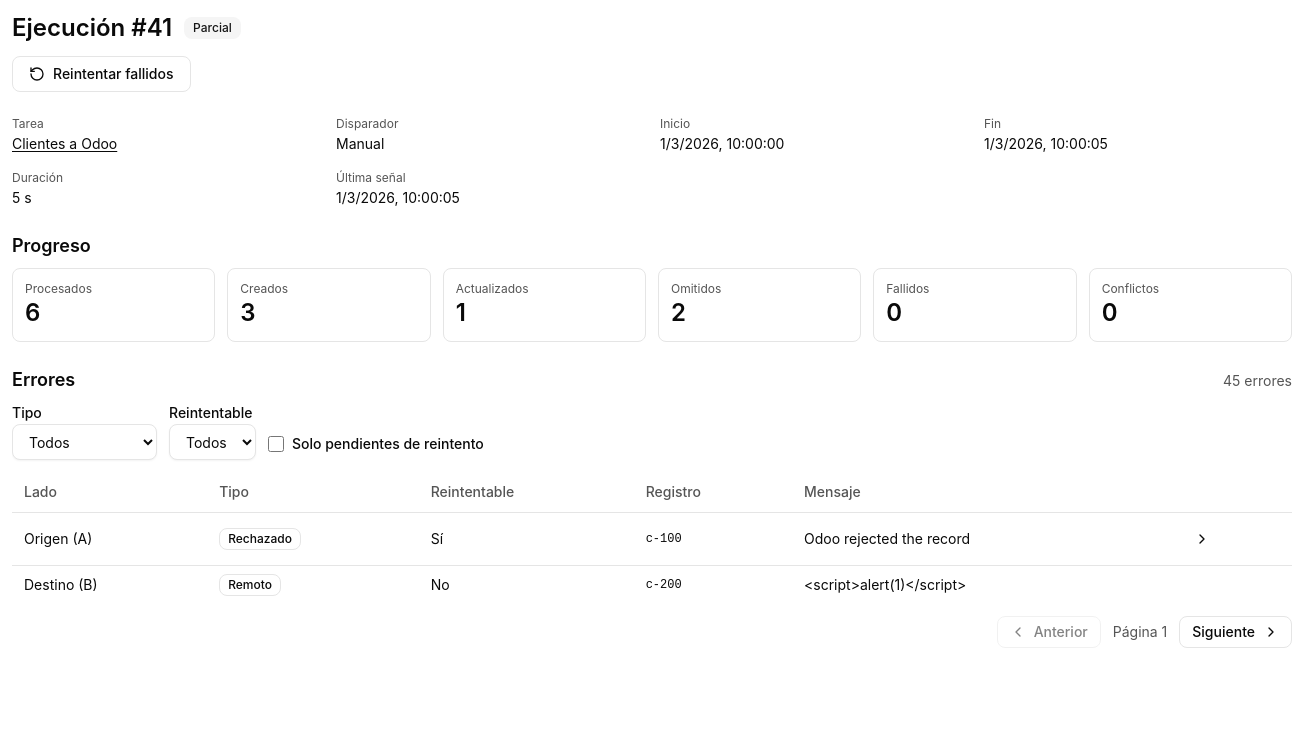
RunDetailPage errors › pages through the errors using the server total
Check: the text "c-100" is shown, box 634,512 -> 792,565
Check: the text "45 errores" is shown, box 1223,371 -> 1292,391
Click the button "Siguiente".
click(1236, 632)  # box 1179,616 -> 1292,648
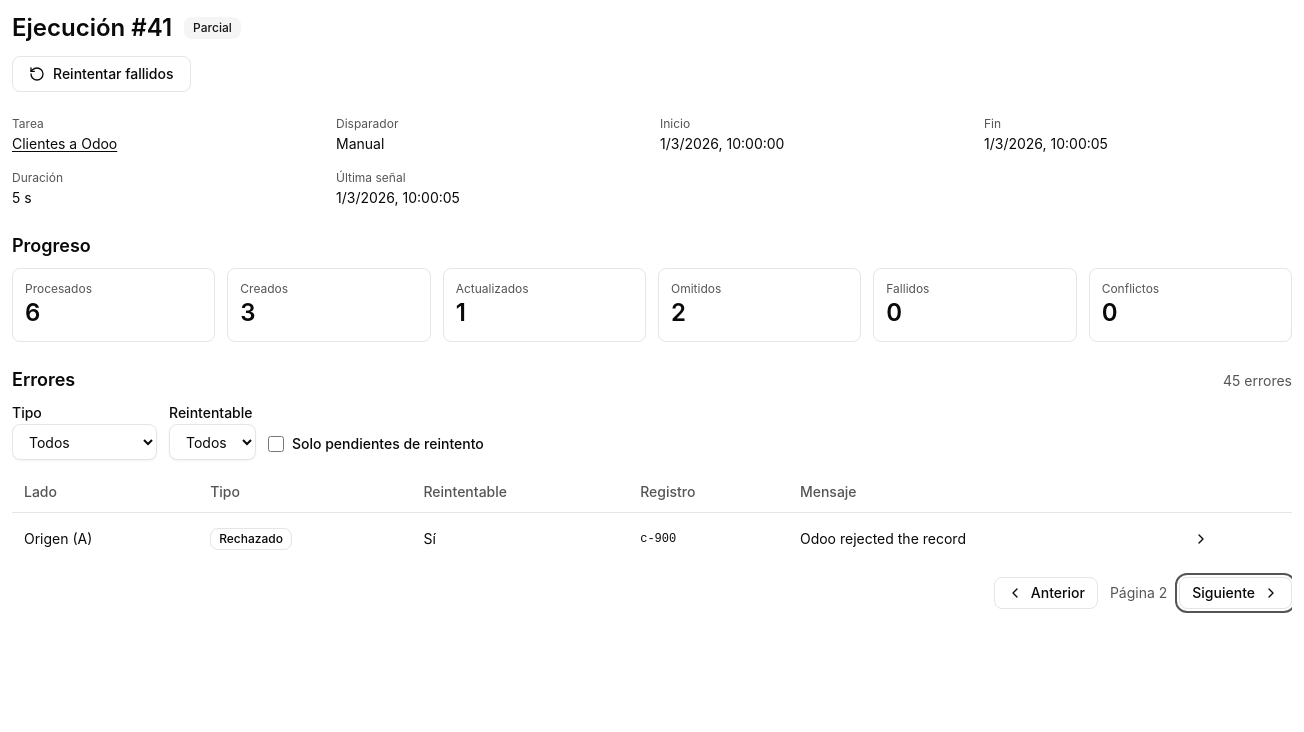
Check: the text "c-900" is shown, box 628,512 -> 788,564
Check: the text "Página 2" is shown, box 1110,582 -> 1167,602
